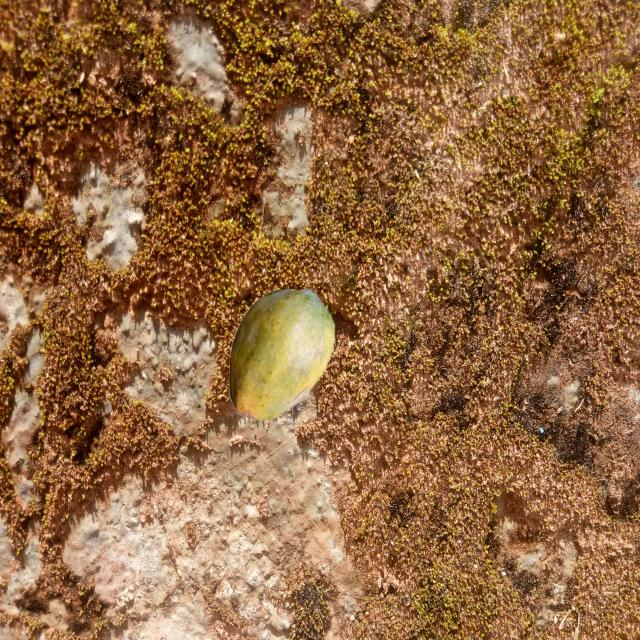Pepaya rippen: (227, 284, 340, 429)
